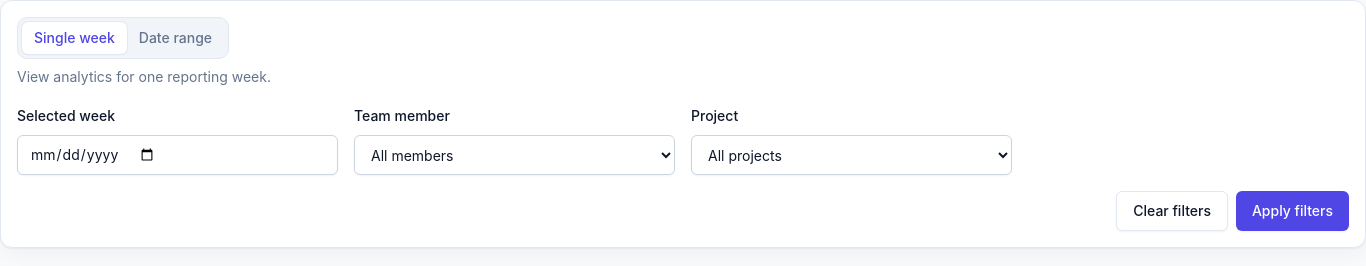
Test: dashboard components › shows only from and to inputs in date range mode
The image size is (1366, 266).
Click the button "Date range" at (175, 38), box 127,22 -> 224,54
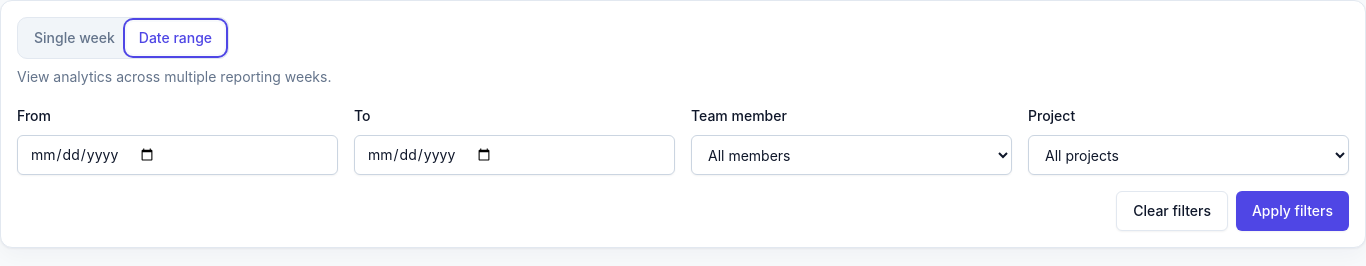
Expected: the date field labelled "From" is shown, 17,135 -> 338,175
Expected: the label labelled "Selected week" is gone
Expected: the date field labelled "To" is shown, 354,135 -> 675,175
